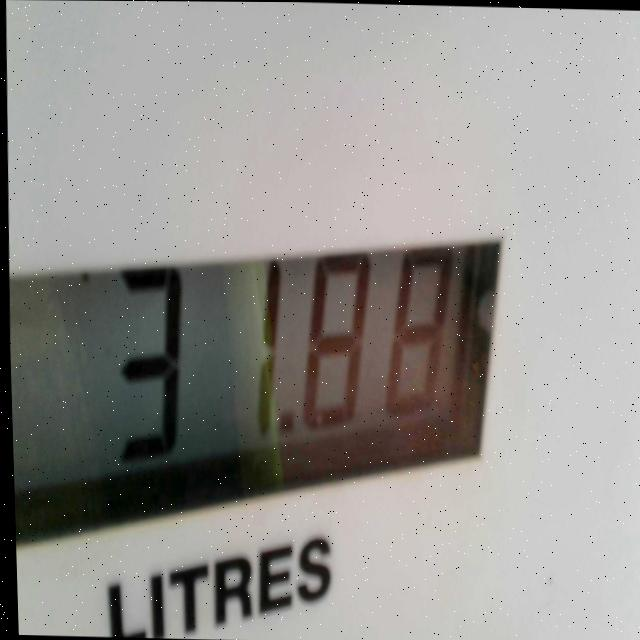.: (268, 402, 298, 449)
1: (235, 259, 282, 444)
3: (100, 263, 199, 479)
8: (376, 251, 467, 427), (299, 251, 380, 447)
